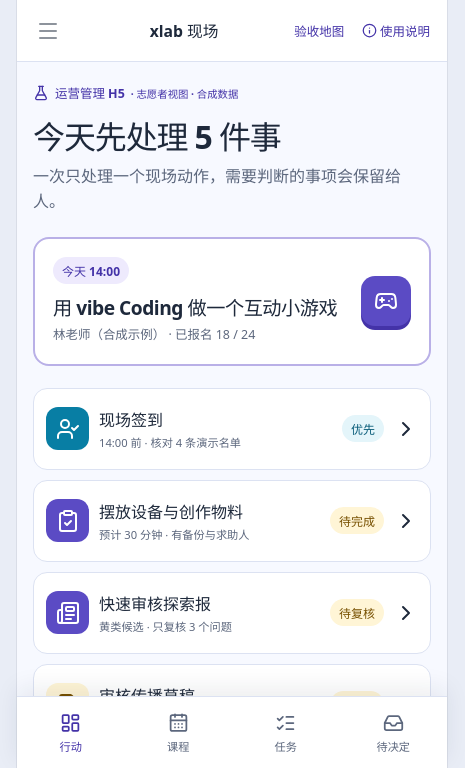
Test case: xlab OPS-0 operations prototype › uses a mobile action queue and records onsite check-in
This screenshot has width=465, height=768.
Expected: the text "运营管理 H5" is shown, [55, 84, 125, 102]
Expected: the heading "今天先处理 5 件事" is shown, [33, 115, 281, 158]
Step 1. Click the button with aria-label "进入现场签到" → (68, 429), box [33, 388, 431, 470]
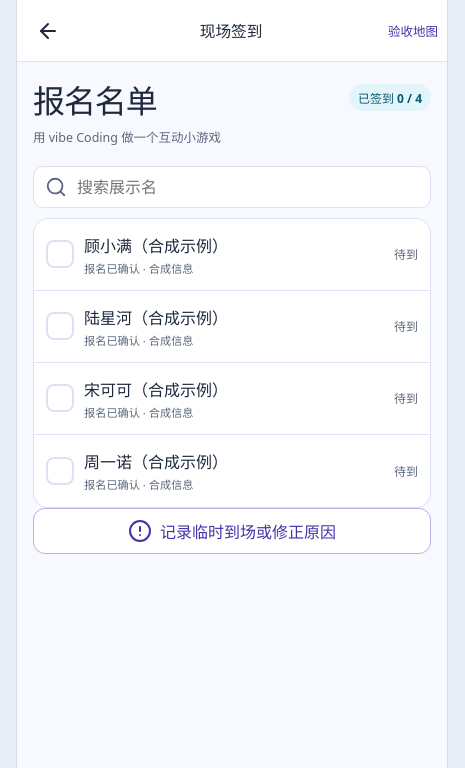
Step 2. Click the checkbox labelled "顾小满（合成示例）" → (156, 246), box [34, 219, 430, 291]
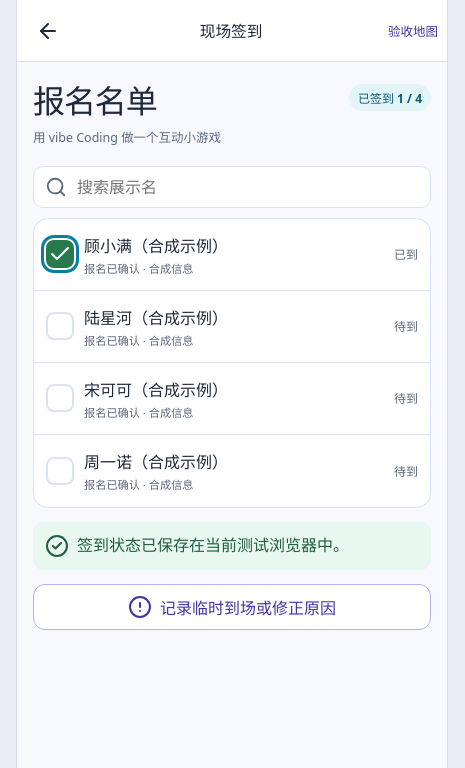
Expected: the text "已签到 1 / 4" is shown, [349, 84, 431, 111]
Expected: the text "签到状态已保存在当前测试浏览器中。" is shown, [33, 522, 431, 570]
